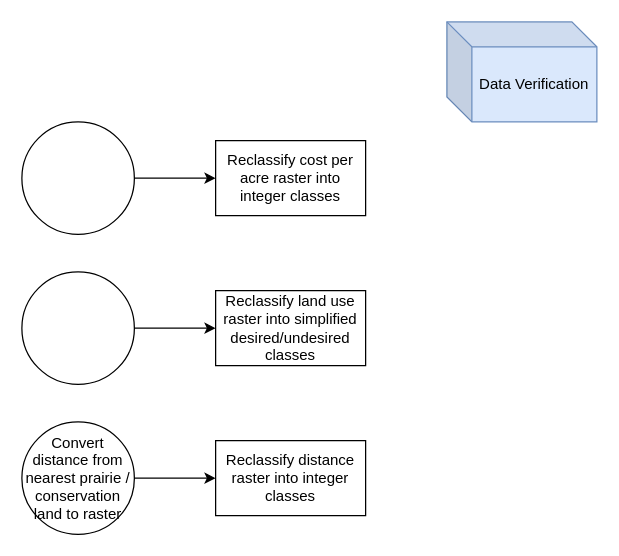
Some shapes in this 619 by 556 pixel diagram are drawn without their labels. The centre of each missing label's shape, as x and y in pixels:
"Convert cost per acre field of Dakota parcels to raster" belongs at point (77, 177).
"Convert land use field of Dakota parcels to raster" belongs at point (77, 327).
